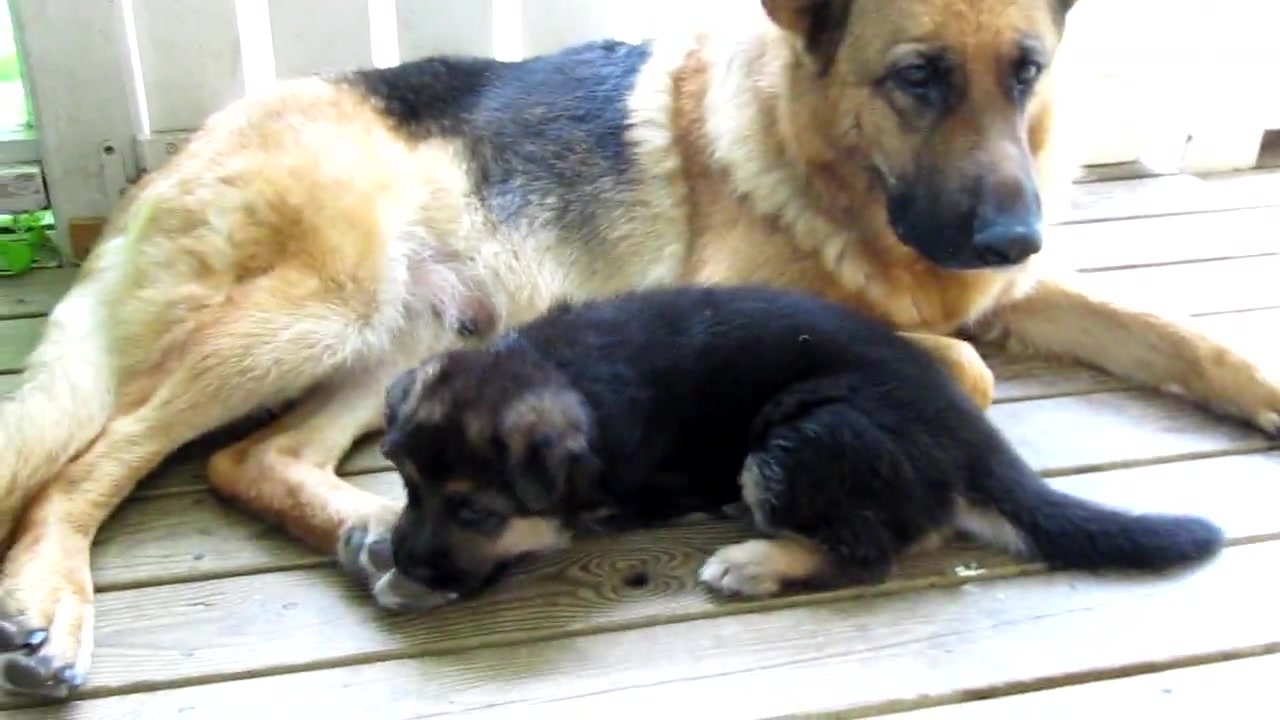dog: (375, 282, 1233, 599)
